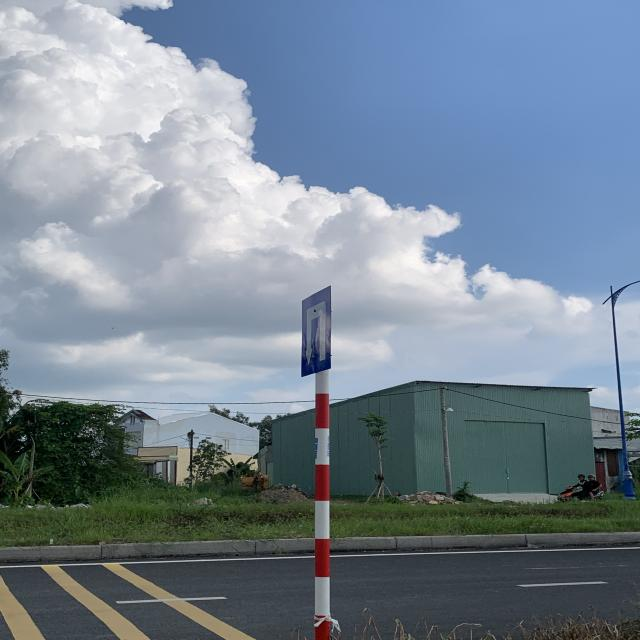Den_Giao_Thong: (300, 285, 333, 377)
